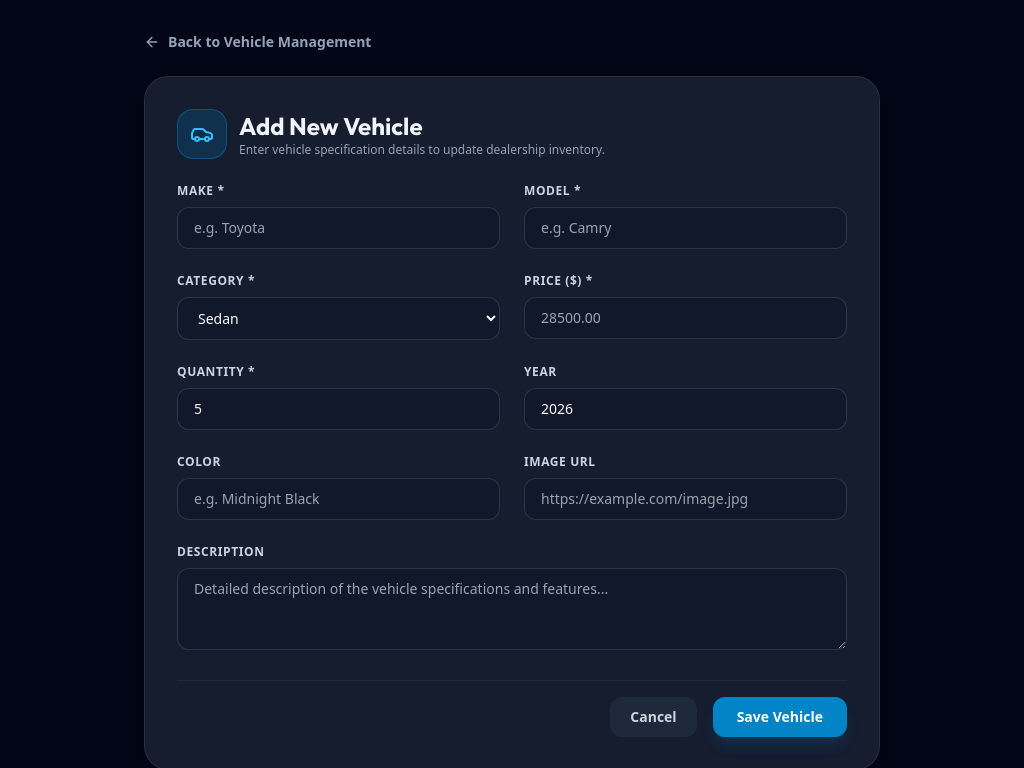
Scenario: AddVehiclePage Form Validation & Submission › shows error validation when price is zero
Type "Nissan" into the field with placeholder "e.g. Toyota".
click(338, 228); type("Nissan")  # box [177,207,500,249]
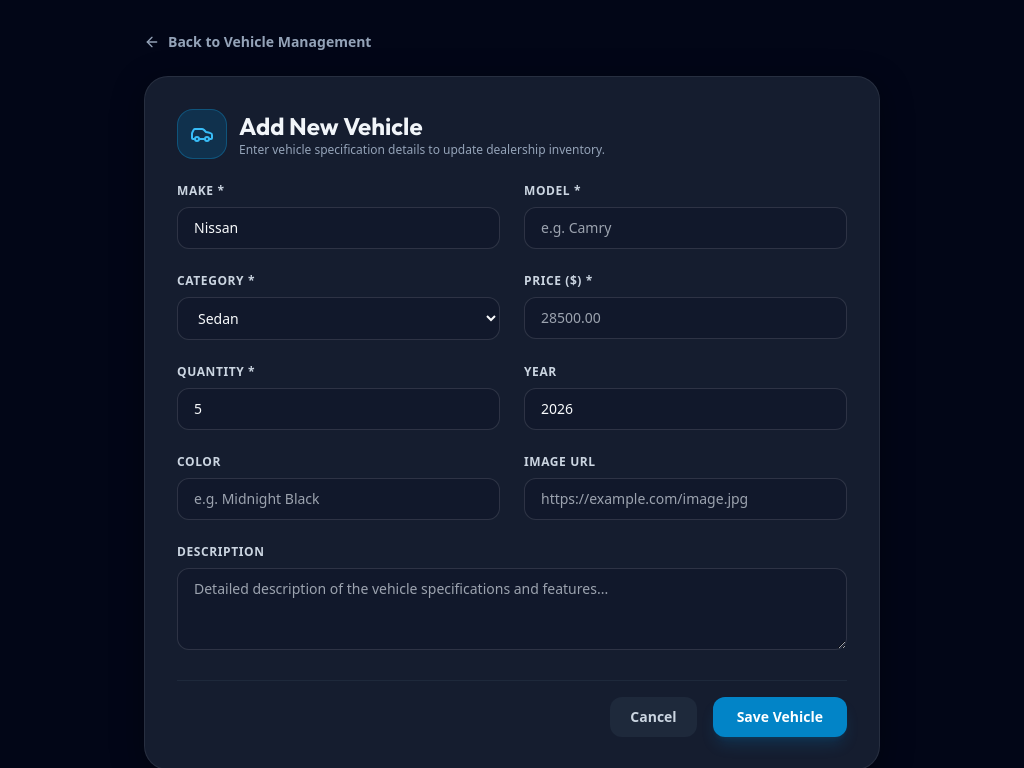
Type "Altima" into the field with placeholder "e.g. Camry".
click(686, 228); type("Altima")  # box [524,207,847,249]
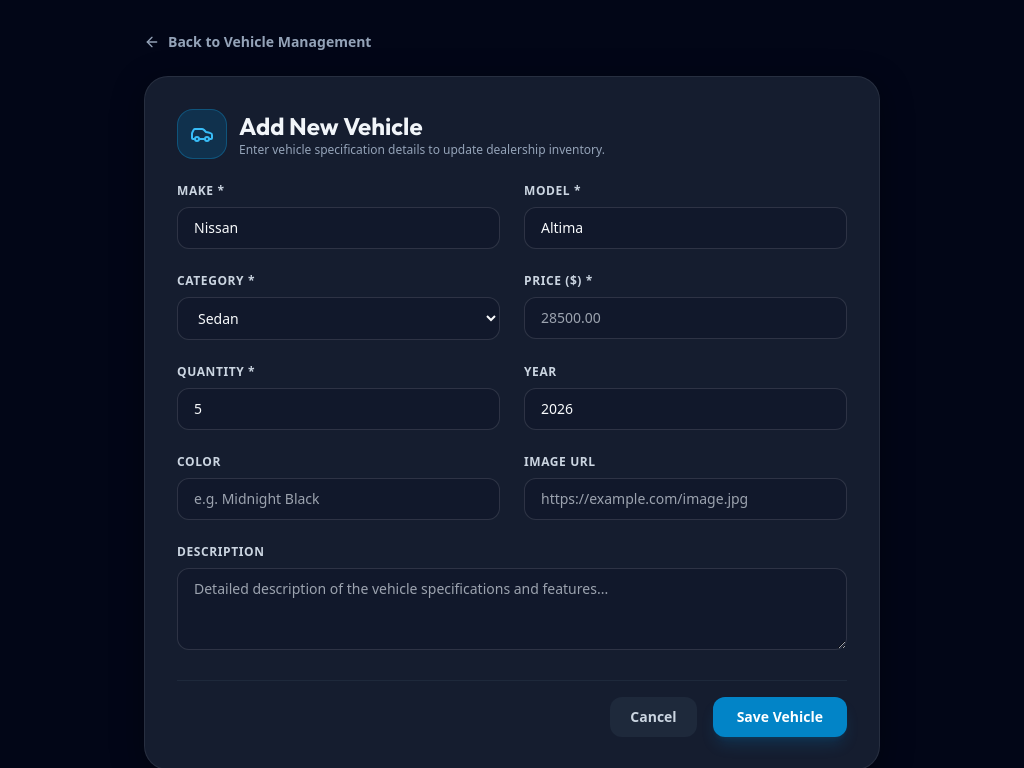
Type "0" into the number field with placeholder "28500.00".
click(686, 318); type("0")  # box [524,297,847,339]
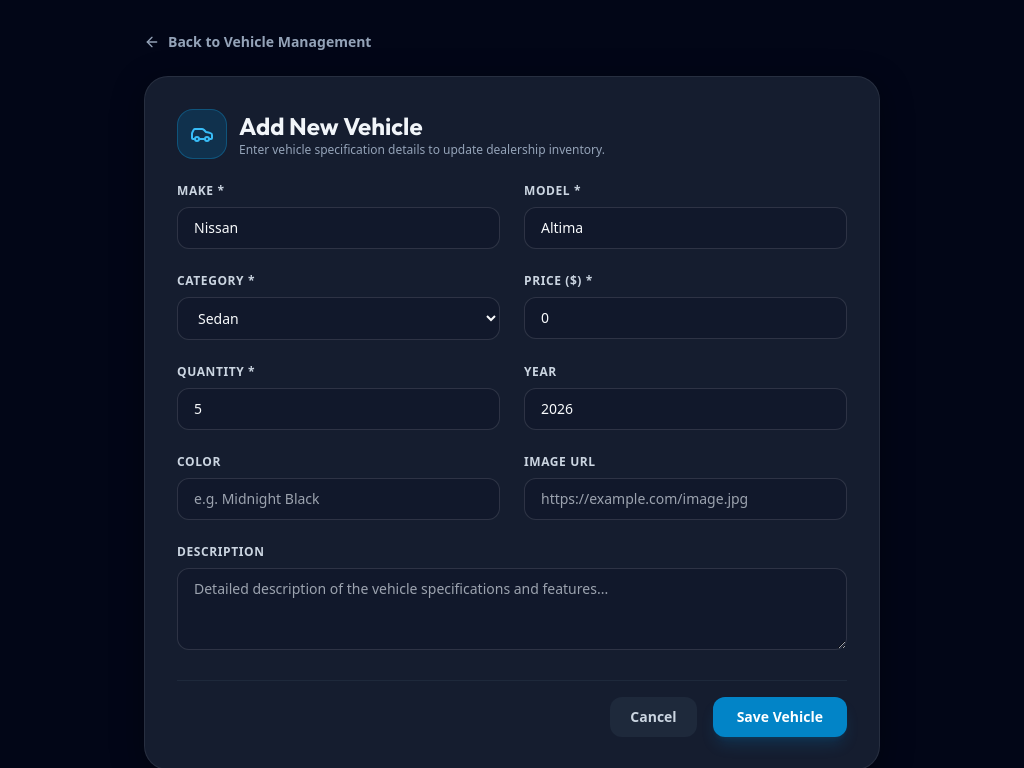
Submit the form named "Save Vehicle", box [177,183,847,737]
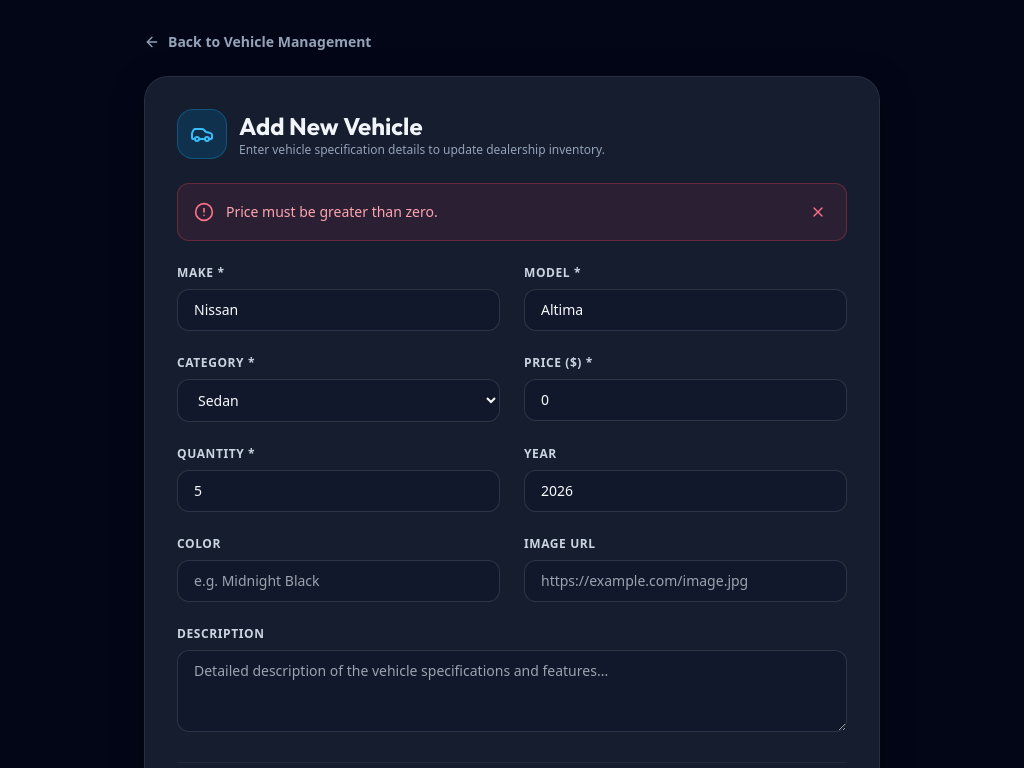
expect the text "Price must be greater than zero." is shown: met, box [226,202,438,222]
